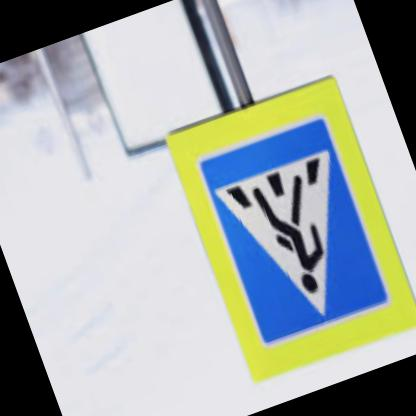crosswalk: (198, 117, 390, 348)
